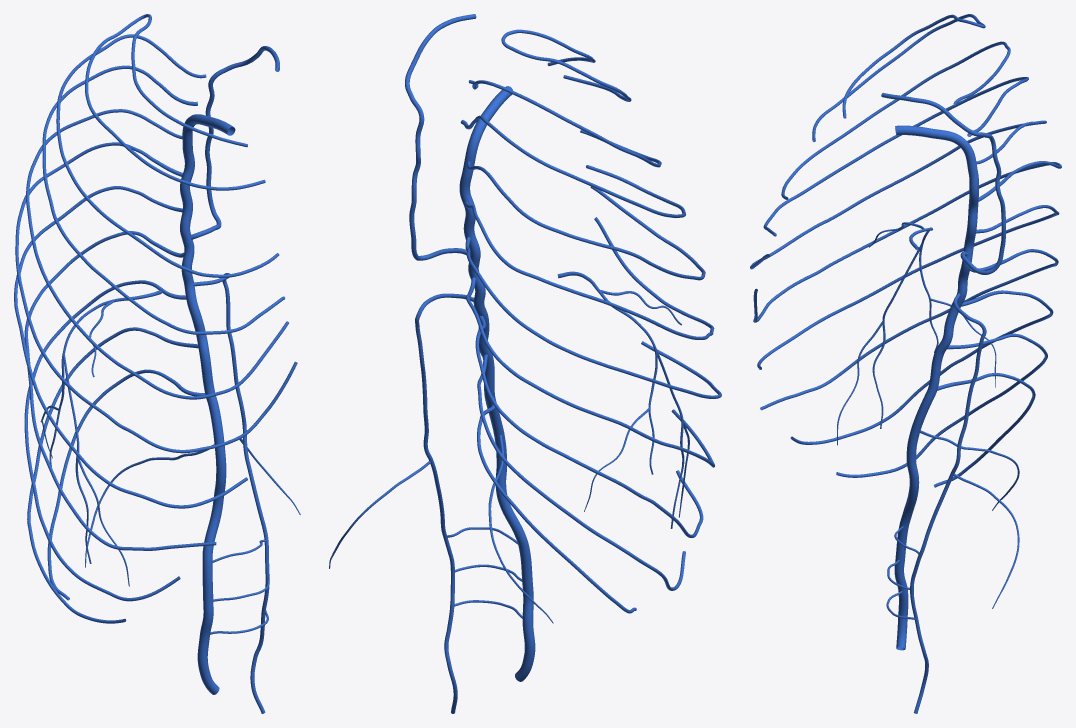
Rendered from circulatorio-azygos-vein.glb.
3 views of the same model, side by side, from view 1: azimuth 30°, elevation 25°; view 2: azimuth 150°, elevation 25°; view 3: azimuth 270°, elevation 25° (orthographic). The views are drawn at different scales.
Parts seen in each view (by area): view 1: Right superior intercostal vein, Azygos vein, Right ascending lumbar vein, Right superior phrenic vein, Accessory hemi-azygos vein, Left ascending lumbar vein, Hemi-azygos vein, Right subcostal vein; view 2: Right superior intercostal vein, Azygos vein, Right ascending lumbar vein, Right superior phrenic vein, Accessory hemi-azygos vein, Left ascending lumbar vein, Hemi-azygos vein; view 3: Right superior intercostal vein, Azygos vein, Right ascending lumbar vein, Right superior phrenic vein, Accessory hemi-azygos vein, Left ascending lumbar vein, Hemi-azygos vein.
Part boxes in pixels (x1,y1,x2,y2): Right superior intercostal vein: (14,14,297,623); Azygos vein: (180,114,235,448); Right ascending lumbar vein: (197,448,269,694); Right superior phrenic vein: (40,290,161,586); Accessory hemi-azygos vein: (191,46,279,239); Left ascending lumbar vein: (242,426,269,713); Hemi-azygos vein: (193,273,246,426); Right subcostal vein: (85,444,214,567); Right superior intercostal vein: (460,29,721,613); Azygos vein: (459,86,512,438); Right ascending lumbar vein: (446,436,535,681); Right superior phrenic vein: (557,271,689,528); Accessory hemi-azygos vein: (405,14,476,260); Left ascending lumbar vein: (424,448,457,713); Hemi-azygos vein: (415,293,473,449); Right superior intercostal vein: (750,14,1061,487); Azygos vein: (895,125,978,435); Right ascending lumbar vein: (886,433,919,650); Right superior phrenic vein: (837,222,996,445); Accessory hemi-azygos vein: (881,93,1005,274); Left ascending lumbar vein: (910,462,959,713); Hemi-azygos vein: (953,293,986,462).
Bounding box in the file's own units: 0.2059 × 0.4551 × 0.1966.
